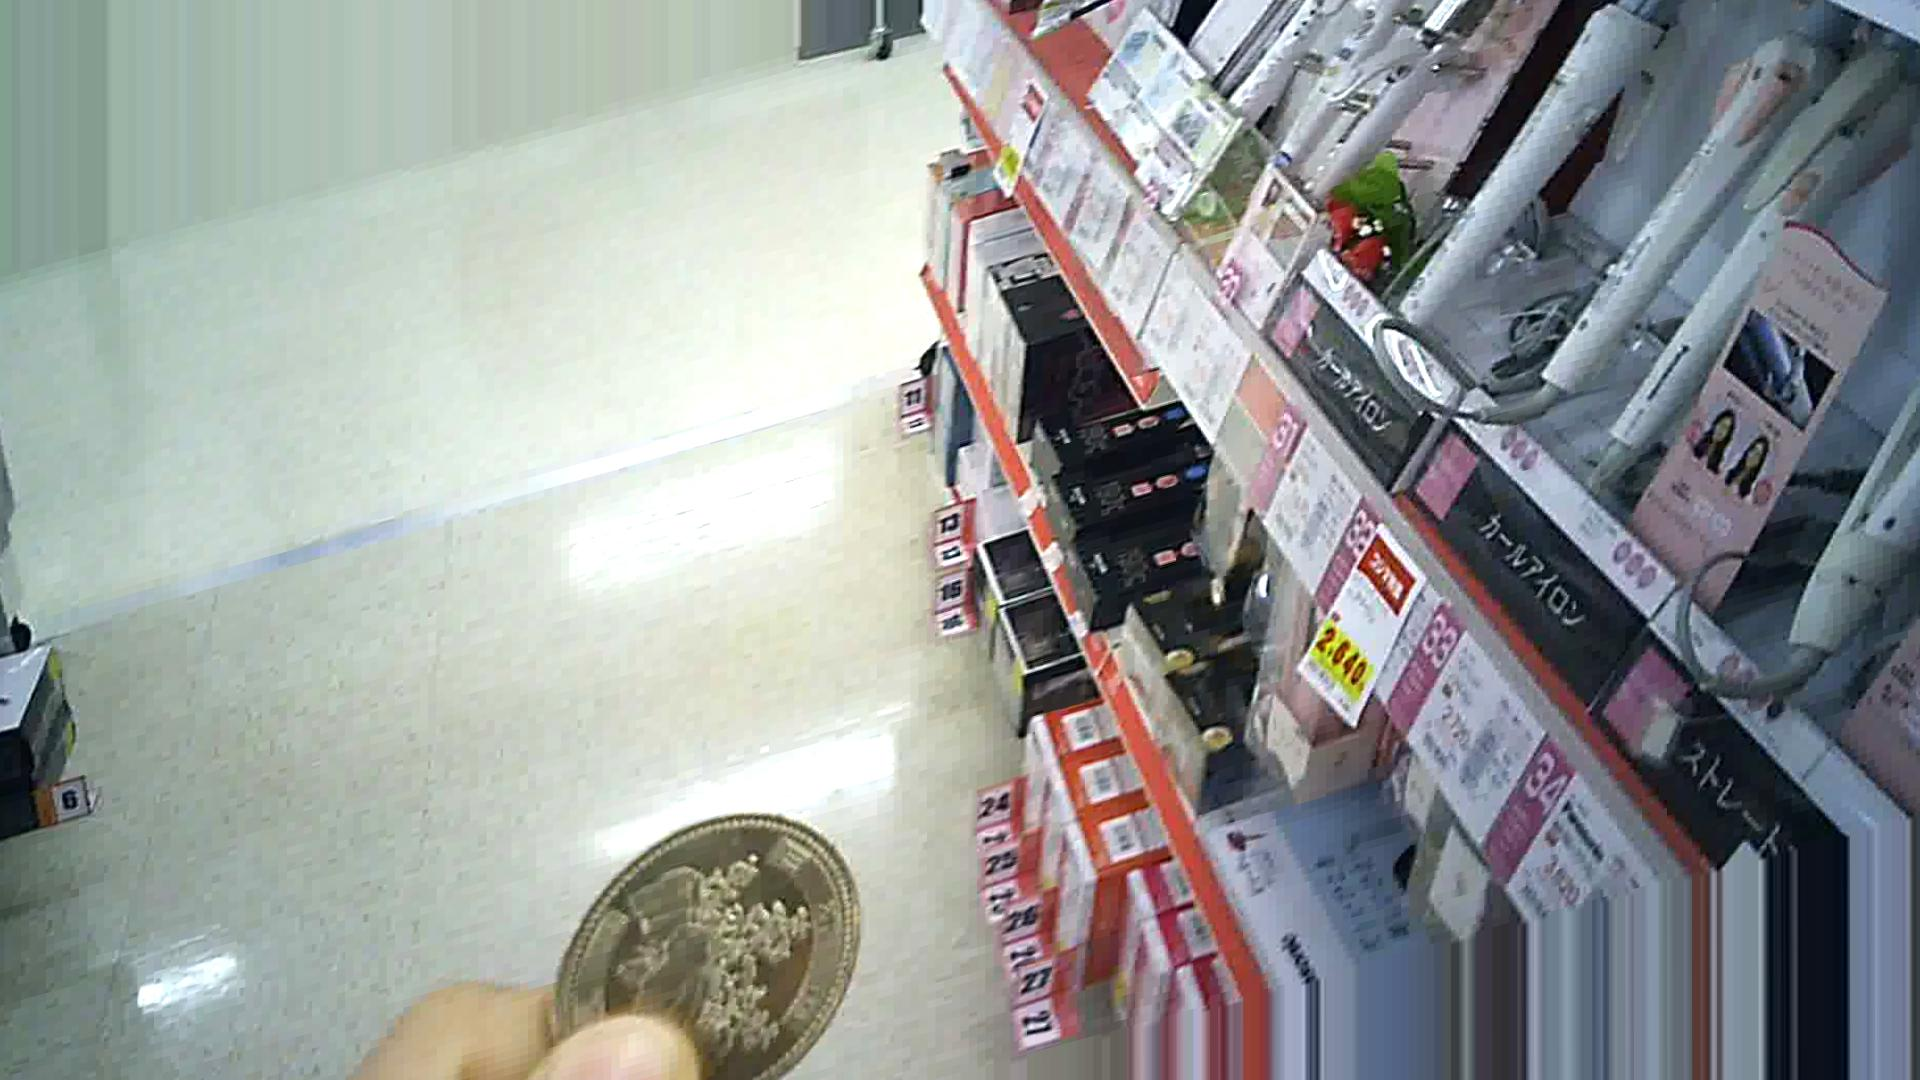500 Yen: (537, 811, 852, 1060)
